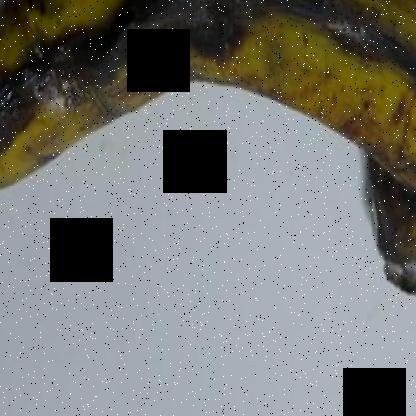overripe: (1, 1, 415, 308)
